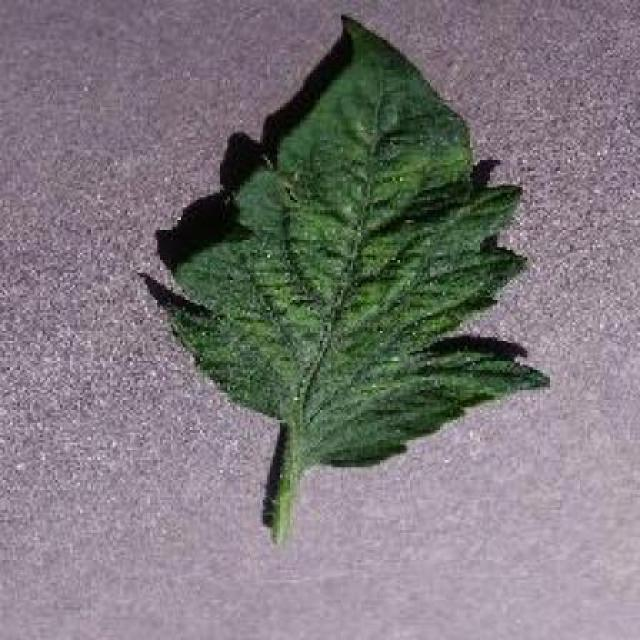Mosaic Virus: (143, 15, 551, 472)
